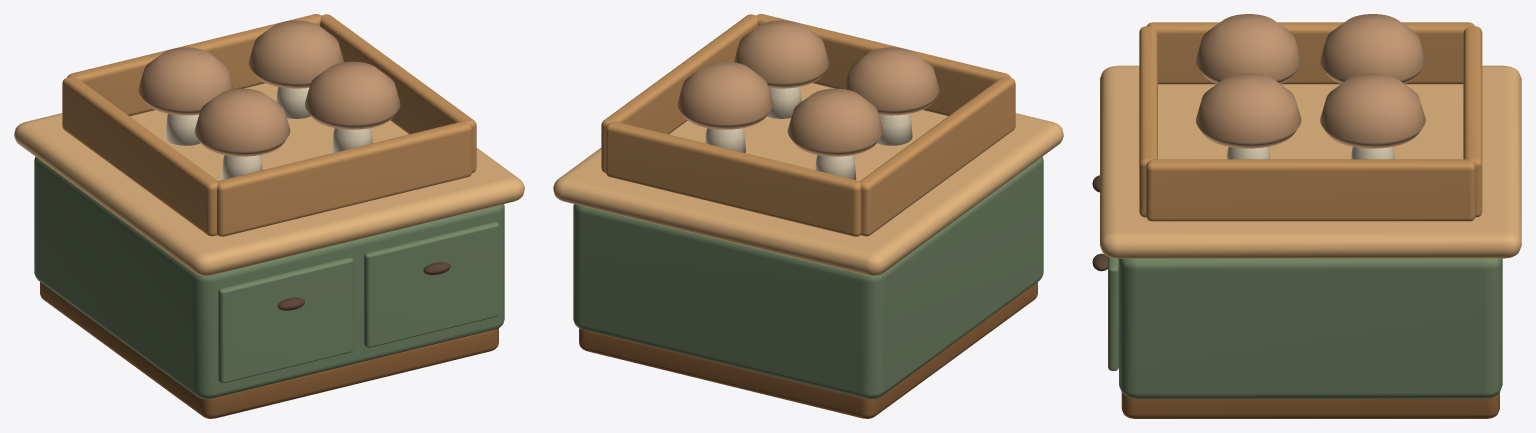
The model's file is source-mushroom.obj.
3 renders of one model, left to right at view 1: azimuth 30°, elevation 25°; view 2: azimuth 150°, elevation 25°; view 3: azimuth 270°, elevation 25°, orthographic. The views are drawn at different scales.
Visible parts, largest first — view 1: source-mushroom_sageDark, source-mushroom_oak, source-mushroom_oakLight, source-mushroom_mushroom, source-mushroom_oakDark, source-mushroom_mushroomFlesh, source-mushroom_cocoa; view 2: source-mushroom_sageDark, source-mushroom_oak, source-mushroom_oakLight, source-mushroom_mushroom, source-mushroom_oakDark, source-mushroom_mushroomFlesh; view 3: source-mushroom_sageDark, source-mushroom_oakLight, source-mushroom_oak, source-mushroom_mushroom, source-mushroom_oakDark, source-mushroom_mushroomFlesh.
Boxes of the visible parts, left/top/right/bottom form: source-mushroom_sageDark: left=34, top=156, right=504, bottom=399; source-mushroom_oak: left=62, top=14, right=476, bottom=236; source-mushroom_oakLight: left=14, top=83, right=524, bottom=276; source-mushroom_mushroom: left=138, top=20, right=400, bottom=156; source-mushroom_oakDark: left=40, top=282, right=498, bottom=418; source-mushroom_mushroomFlesh: left=165, top=87, right=372, bottom=179; source-mushroom_cocoa: left=277, top=262, right=450, bottom=310; source-mushroom_sageDark: left=573, top=156, right=1043, bottom=399; source-mushroom_oak: left=601, top=14, right=1015, bottom=236; source-mushroom_oakLight: left=553, top=83, right=1063, bottom=276; source-mushroom_mushroom: left=677, top=20, right=939, bottom=156; source-mushroom_oakDark: left=579, top=282, right=1037, bottom=418; source-mushroom_mushroomFlesh: left=705, top=87, right=912, bottom=179; source-mushroom_sageDark: left=1108, top=256, right=1502, bottom=398; source-mushroom_oakLight: left=1100, top=65, right=1521, bottom=258; source-mushroom_oak: left=1139, top=22, right=1482, bottom=221; source-mushroom_mushroom: left=1196, top=14, right=1425, bottom=148; source-mushroom_oakDark: left=1121, top=392, right=1499, bottom=418; source-mushroom_mushroomFlesh: left=1227, top=147, right=1394, bottom=159.
Bounding box in the file's own units: 0.78 × 0.5961 × 0.794.
